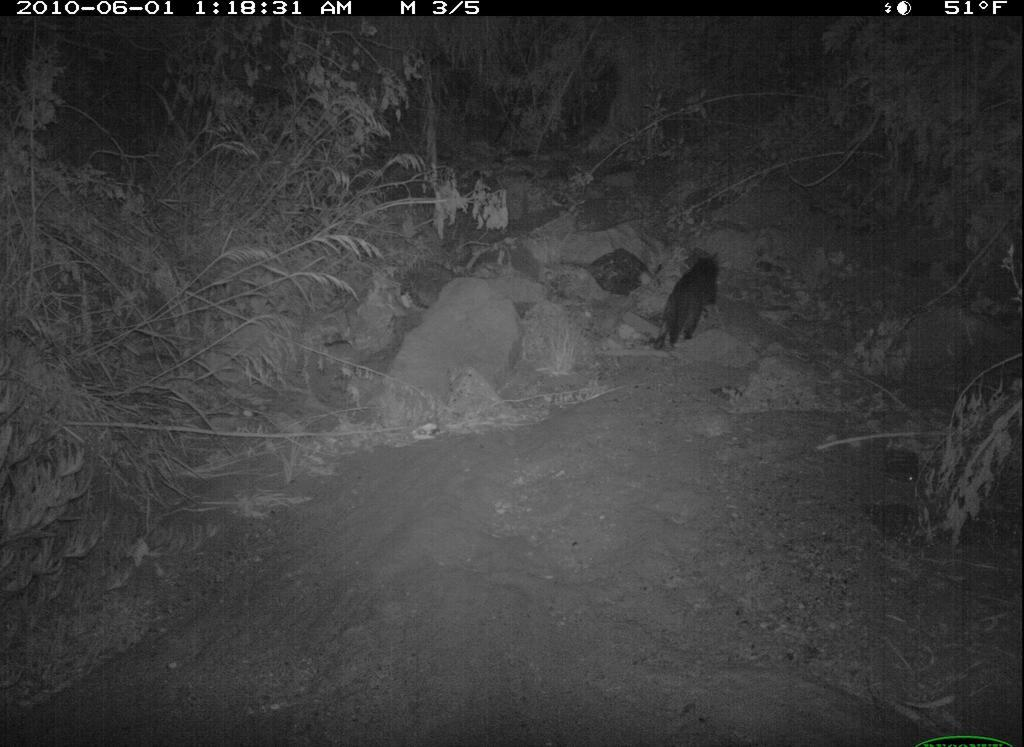cat: (647, 248, 728, 360)
